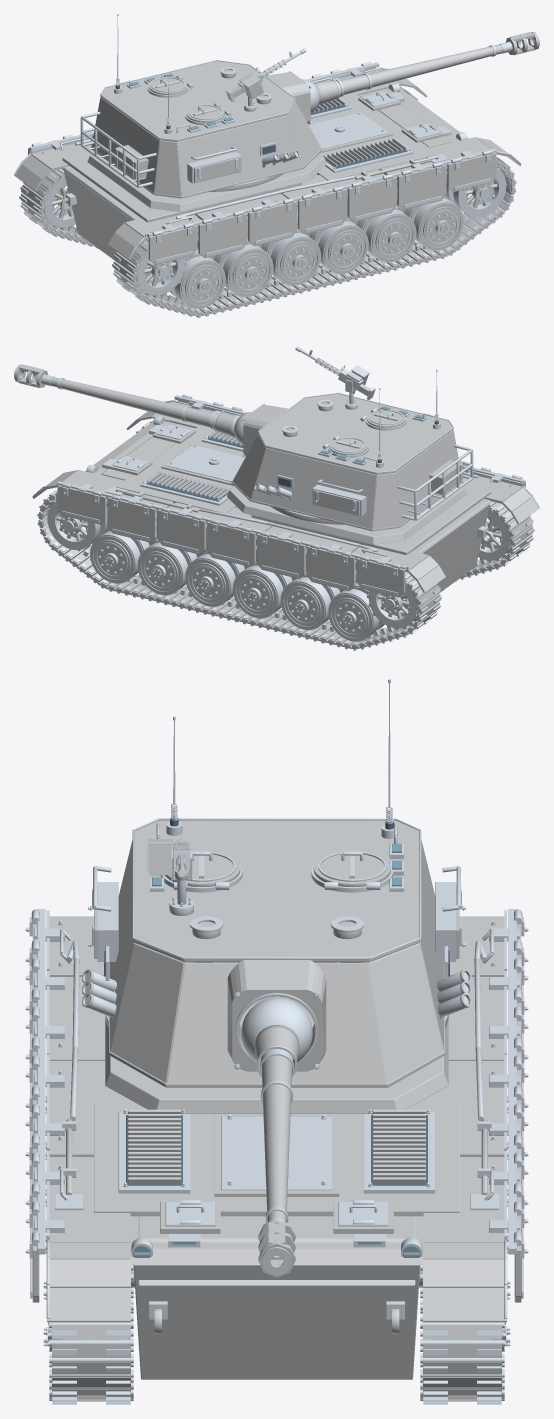
The model's file is ferdinand_vehicle.glb.
The picture shows the model from 3 angles, top to bottom: view 1: azimuth 30°, elevation 25°; view 2: azimuth 150°, elevation 25°; view 3: azimuth 270°, elevation 25°; orthographic projection. The views are drawn at different scales.
Visible parts, largest first — view 1: ENGINE_DECK, TURRET_ROOF, TRACKS_L, FENDERS_AND_TOOLS, TURRET_SIDE_L, HULL_TURRET_PLINTH, GUN_BARREL, HULL_LOWER, TURRET_REAR, ROAD_WHEEL_L_01_MESH, ROAD_WHEEL_L_02_MESH, ROAD_WHEEL_L_03_MESH (+33 smaller); view 2: TURRET_ROOF, ENGINE_DECK, TRACKS_R, FENDERS_AND_TOOLS, TURRET_SIDE_R, HULL_TURRET_PLINTH, GUN_BARREL, HULL_LOWER, TURRET_REAR, ROAD_WHEEL_R_01_MESH, ROAD_WHEEL_R_02_MESH, ROAD_WHEEL_R_03_MESH (+33 smaller); view 3: ENGINE_DECK, FENDERS_AND_TOOLS, TURRET_ROOF, HULL_LOWER, TURRET_FRONT, HULL_TURRET_PLINTH, TRACKS_L, TRACKS_R, FENDER_FRONT_L, FENDER_FRONT_R, TURRET_CHEEK_R, TURRET_CHEEK_L (+17 smaller).
Part boxes in pixels (box(x1,y1,x2,y2)): ENGINE_DECK: box(308, 91, 451, 180); TURRET_ROOF: box(100, 61, 295, 141); TRACKS_L: box(112, 157, 516, 317); FENDERS_AND_TOOLS: box(30, 69, 474, 239); TURRET_SIDE_L: box(177, 115, 302, 196); HULL_TURRET_PLINTH: box(87, 150, 326, 211); GUN_BARREL: box(335, 31, 539, 96); HULL_LOWER: box(64, 171, 445, 275); TURRET_REAR: box(91, 97, 159, 192); ROAD_WHEEL_L_01_MESH: box(213, 239, 273, 297); ROAD_WHEEL_L_02_MESH: box(261, 228, 320, 285); ROAD_WHEEL_L_03_MESH: box(309, 218, 368, 274); TURRET_ROOF: box(258, 393, 453, 474); ENGINE_DECK: box(102, 424, 245, 513); TRACKS_R: box(37, 489, 441, 650); FENDERS_AND_TOOLS: box(79, 401, 523, 572); TURRET_SIDE_R: box(251, 448, 376, 529); HULL_TURRET_PLINTH: box(227, 483, 466, 544); GUN_BARREL: box(14, 364, 217, 429); HULL_LOWER: box(108, 503, 489, 608); TURRET_REAR: box(394, 430, 458, 525); ROAD_WHEEL_R_01_MESH: box(280, 571, 340, 630); ROAD_WHEEL_R_02_MESH: box(233, 561, 292, 618); ROAD_WHEEL_R_03_MESH: box(185, 551, 244, 606); ENGINE_DECK: box(94, 1105, 459, 1247); FENDERS_AND_TOOLS: box(46, 910, 507, 1333); TURRET_ROOF: box(133, 820, 420, 962); HULL_LOWER: box(133, 1264, 420, 1379); TURRET_FRONT: box(166, 962, 387, 1083); HULL_TURRET_PLINTH: box(105, 1018, 448, 1113); TRACKS_L: box(49, 1264, 133, 1404); TRACKS_R: box(420, 1264, 504, 1404); FENDER_FRONT_L: box(46, 1240, 130, 1322); FENDER_FRONT_R: box(423, 1240, 507, 1322); TURRET_CHEEK_R: box(367, 943, 443, 1082); TURRET_CHEEK_L: box(110, 943, 185, 1082).
Bounding box in the file's own units: 8.68 × 4.31 × 4.07.
